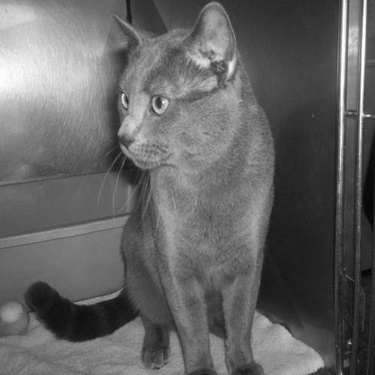cat: (15, 1, 276, 371)
